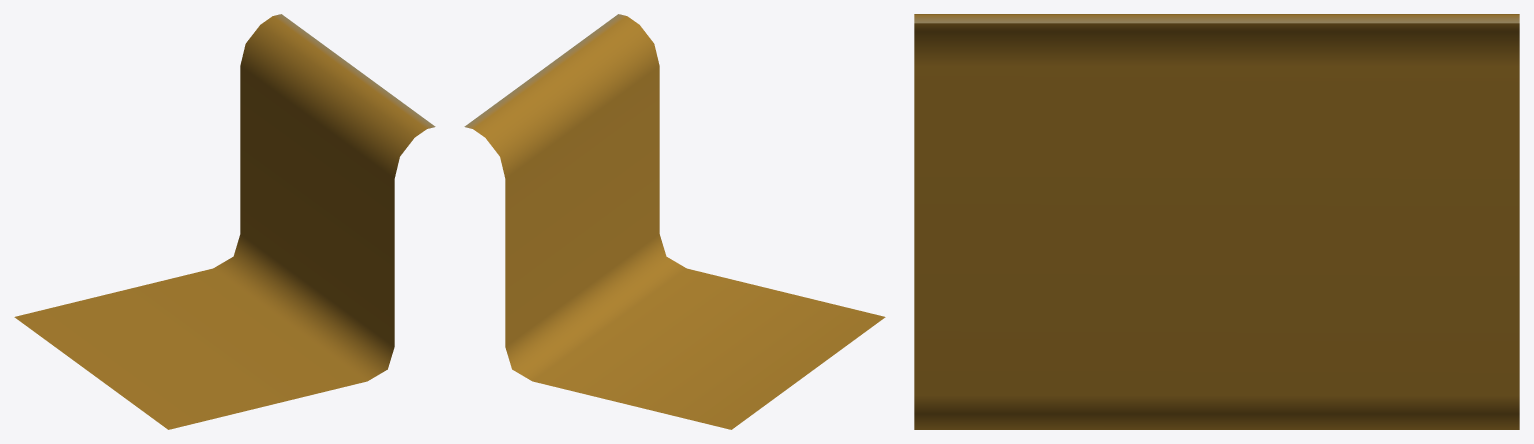
The model's file is Base_PoolRoad.fbx.
3 views of the same model, side by side, from view 1: azimuth 30°, elevation 25°; view 2: azimuth 150°, elevation 25°; view 3: azimuth 270°, elevation 25° (orthographic). The views are drawn at different scales.
Parts seen in each view (by area): view 1: Base_PoolRoad; view 2: Base_PoolRoad; view 3: Base_PoolRoad.
Boxes of the visible parts, box(x1,y1,x2,y2) form: Base_PoolRoad: box(14, 14, 435, 429); Base_PoolRoad: box(464, 14, 885, 429); Base_PoolRoad: box(914, 14, 1519, 429).
Bounding box in the file's own units: 2001 × 1700 × 2000.
